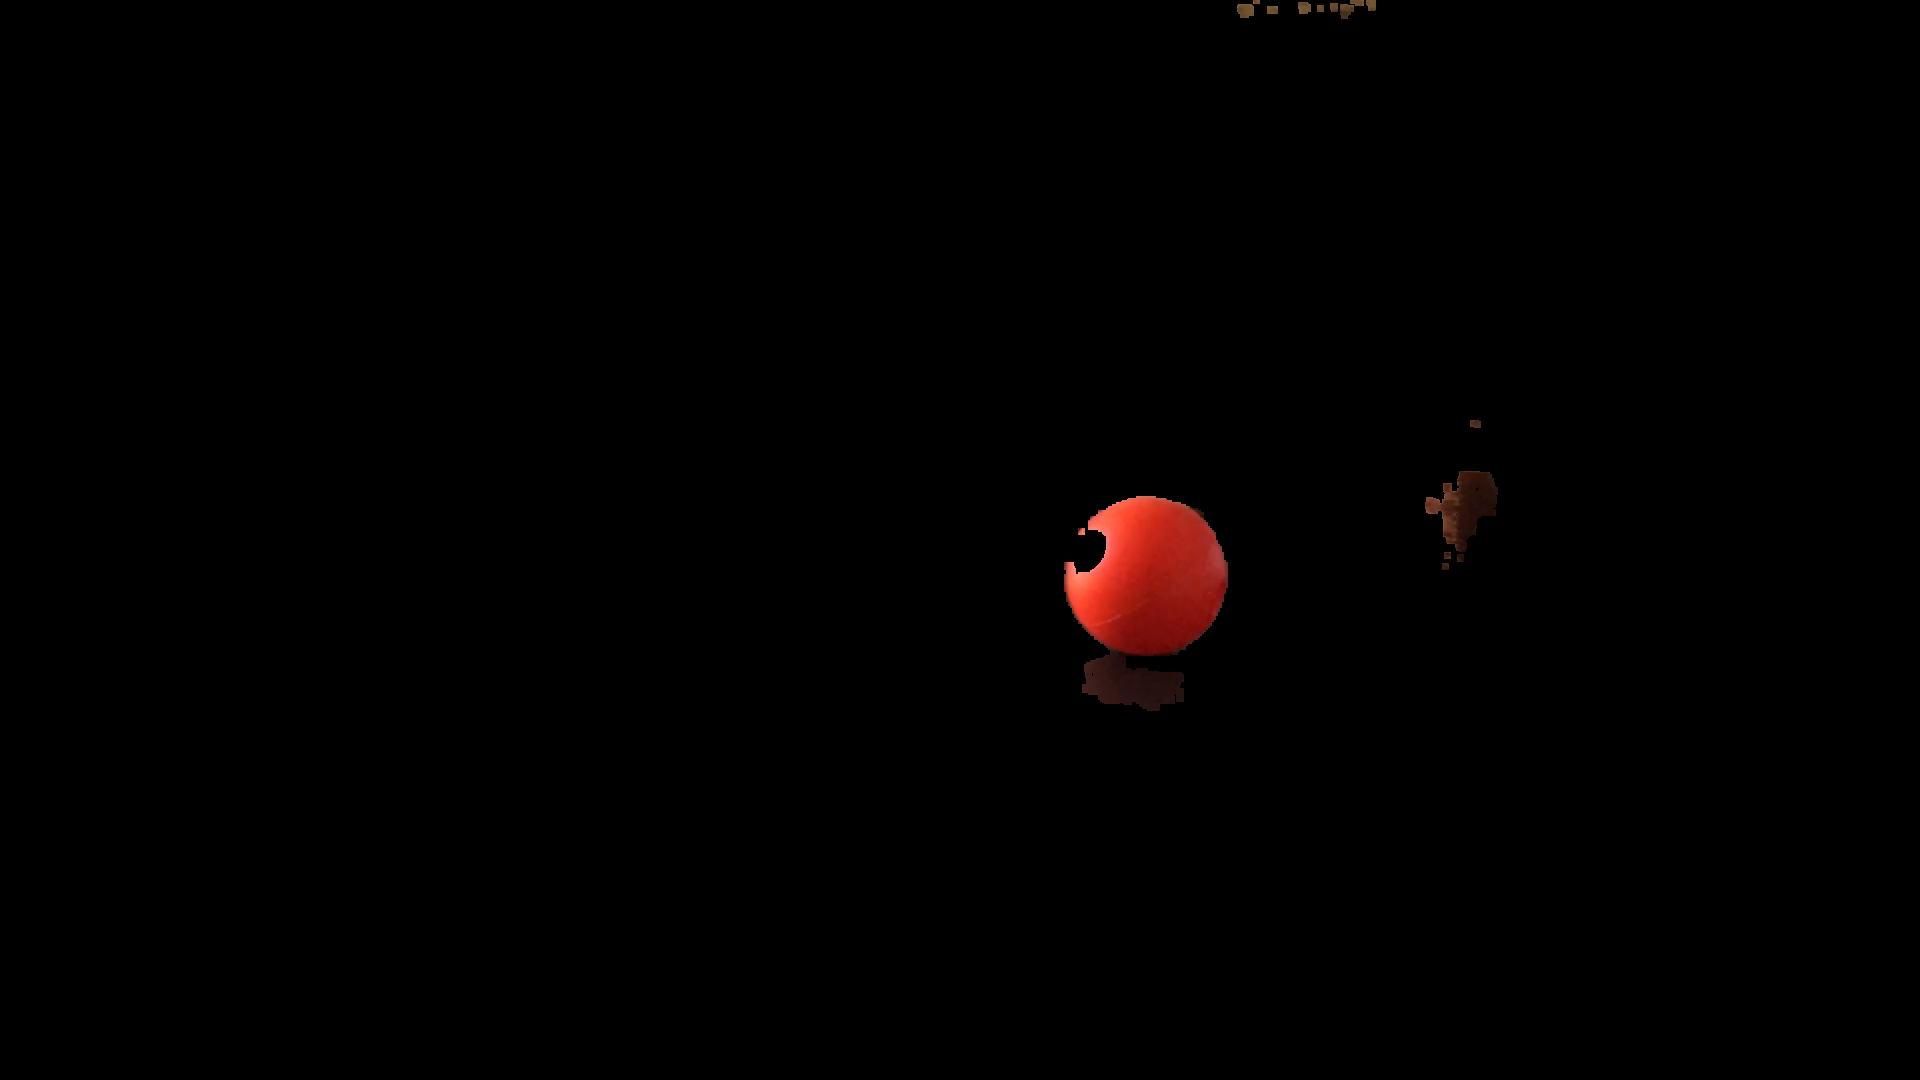Ball: (1068, 491, 1225, 659)
